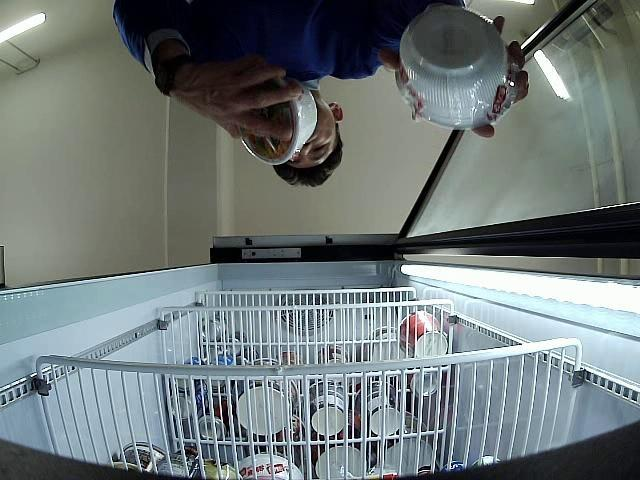09_yukGaeJang: (396, 6, 518, 124), (241, 74, 318, 164)
